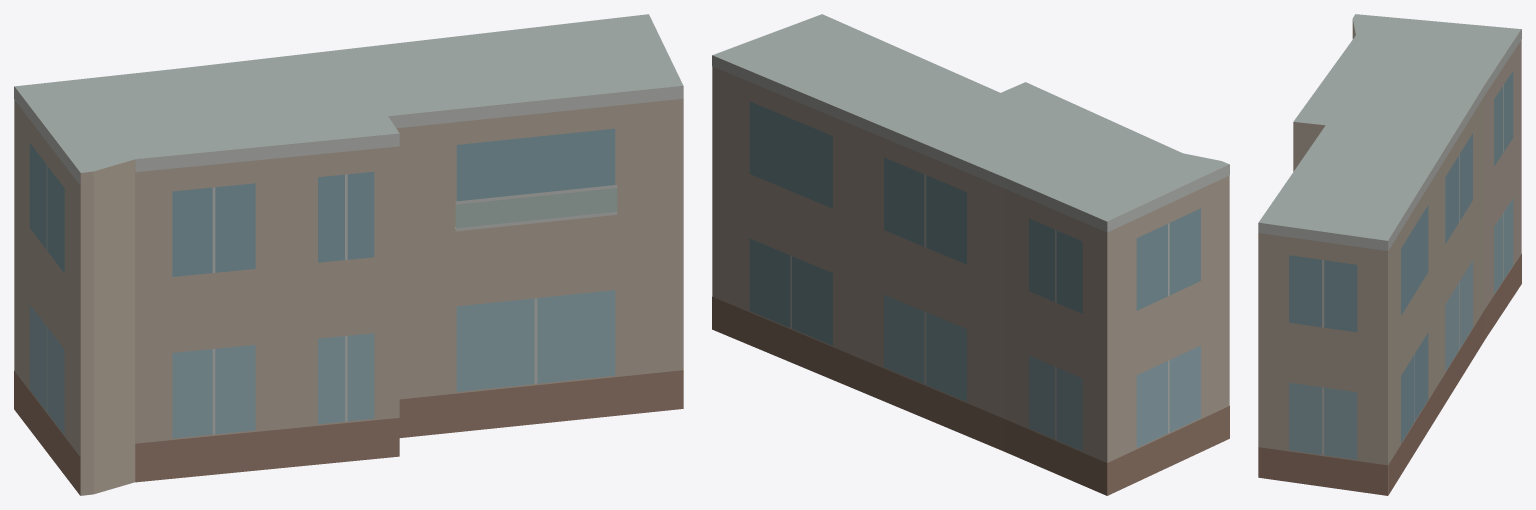
The model's file is survey-upis-32758820.glb.
3 views of the same model, side by side, from view 1: azimuth 30°, elevation 25°; view 2: azimuth 150°, elevation 25°; view 3: azimuth 270°, elevation 25° (orthographic). The views are drawn at different scales.
Visible parts, largest first — view 1: survey-upis-32758820.tmp; view 2: survey-upis-32758820.tmp; view 3: survey-upis-32758820.tmp.
Part boxes in pixels (x1,y1,x2,y2): survey-upis-32758820.tmp: (14, 14, 683, 495); survey-upis-32758820.tmp: (712, 14, 1229, 495); survey-upis-32758820.tmp: (1258, 14, 1521, 495).
Bounding box in the file's own units: 11.65 × 6.1 × 5.72.
